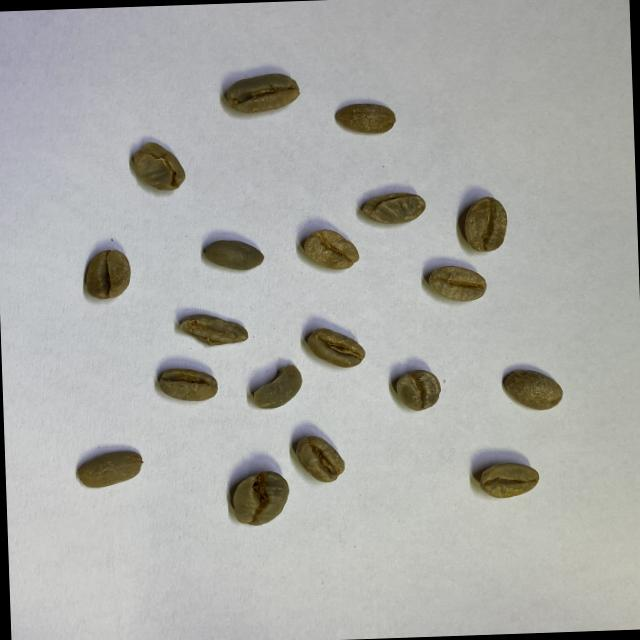bad: (130, 140, 187, 192), (303, 325, 367, 371), (179, 309, 250, 349), (251, 361, 304, 410), (295, 433, 346, 483), (360, 189, 429, 225)
good: (229, 468, 291, 528), (222, 70, 300, 116), (461, 194, 510, 254), (502, 366, 562, 413), (300, 228, 360, 274), (77, 448, 144, 488), (86, 245, 132, 302), (335, 98, 400, 138), (476, 460, 540, 500), (424, 264, 487, 304), (156, 365, 218, 405), (200, 237, 266, 274), (394, 369, 441, 412)
